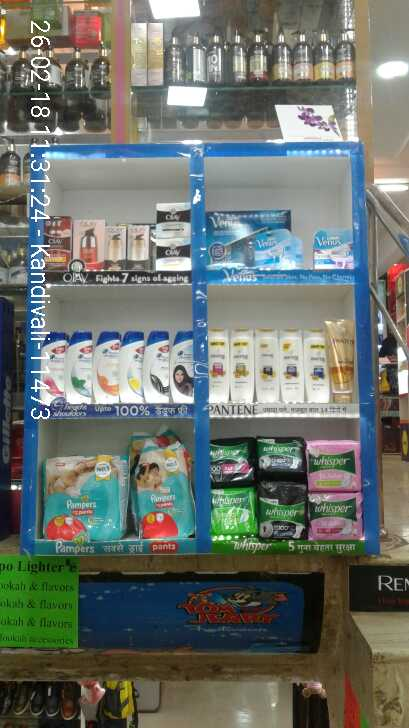venus: (207, 210, 255, 269), (260, 231, 296, 271), (318, 234, 350, 264)
